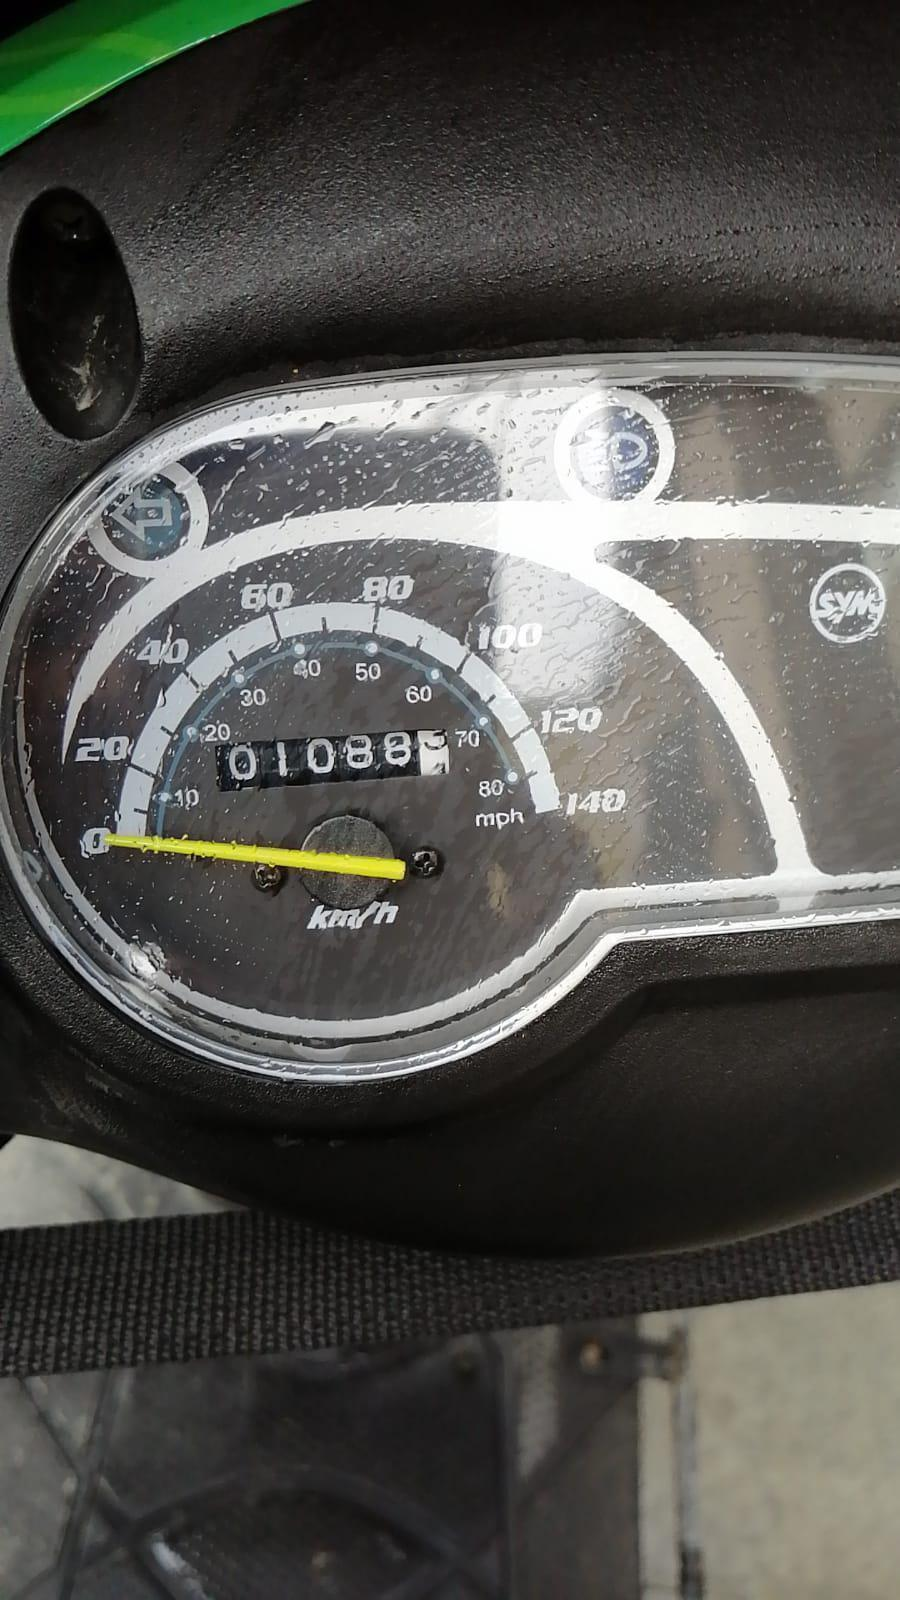0: (226, 742, 258, 781), (305, 737, 335, 774), (216, 722, 231, 742)
1: (275, 738, 289, 777)
3: (422, 723, 447, 751)
8: (344, 734, 374, 769), (384, 731, 412, 765)
odometer: (213, 726, 452, 793)
